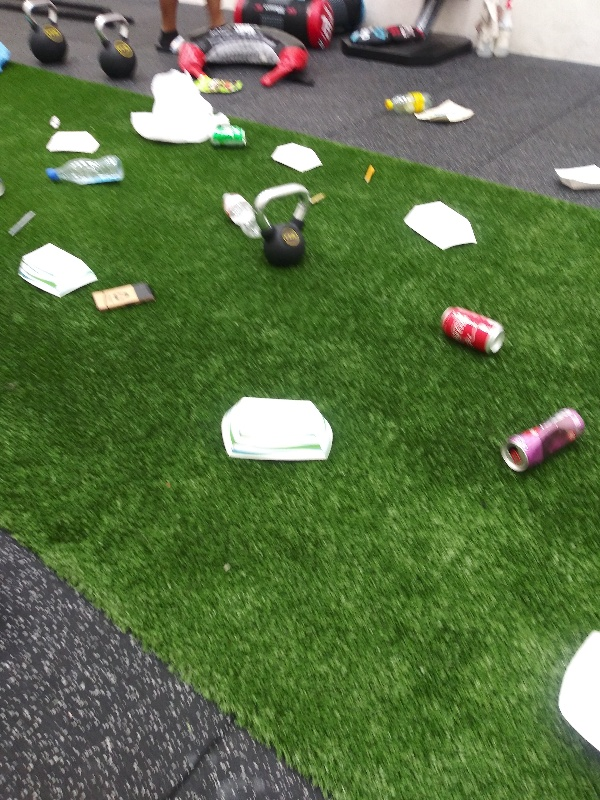bag: (411, 97, 480, 125), (191, 72, 248, 94)
bottle: (43, 152, 127, 187), (379, 91, 435, 116)
can: (497, 405, 586, 476), (436, 303, 509, 355), (208, 122, 249, 149)
plate: (218, 393, 340, 465), (551, 627, 600, 761), (12, 241, 101, 303), (401, 198, 484, 255), (268, 142, 324, 178), (41, 126, 101, 157), (548, 163, 600, 197)
